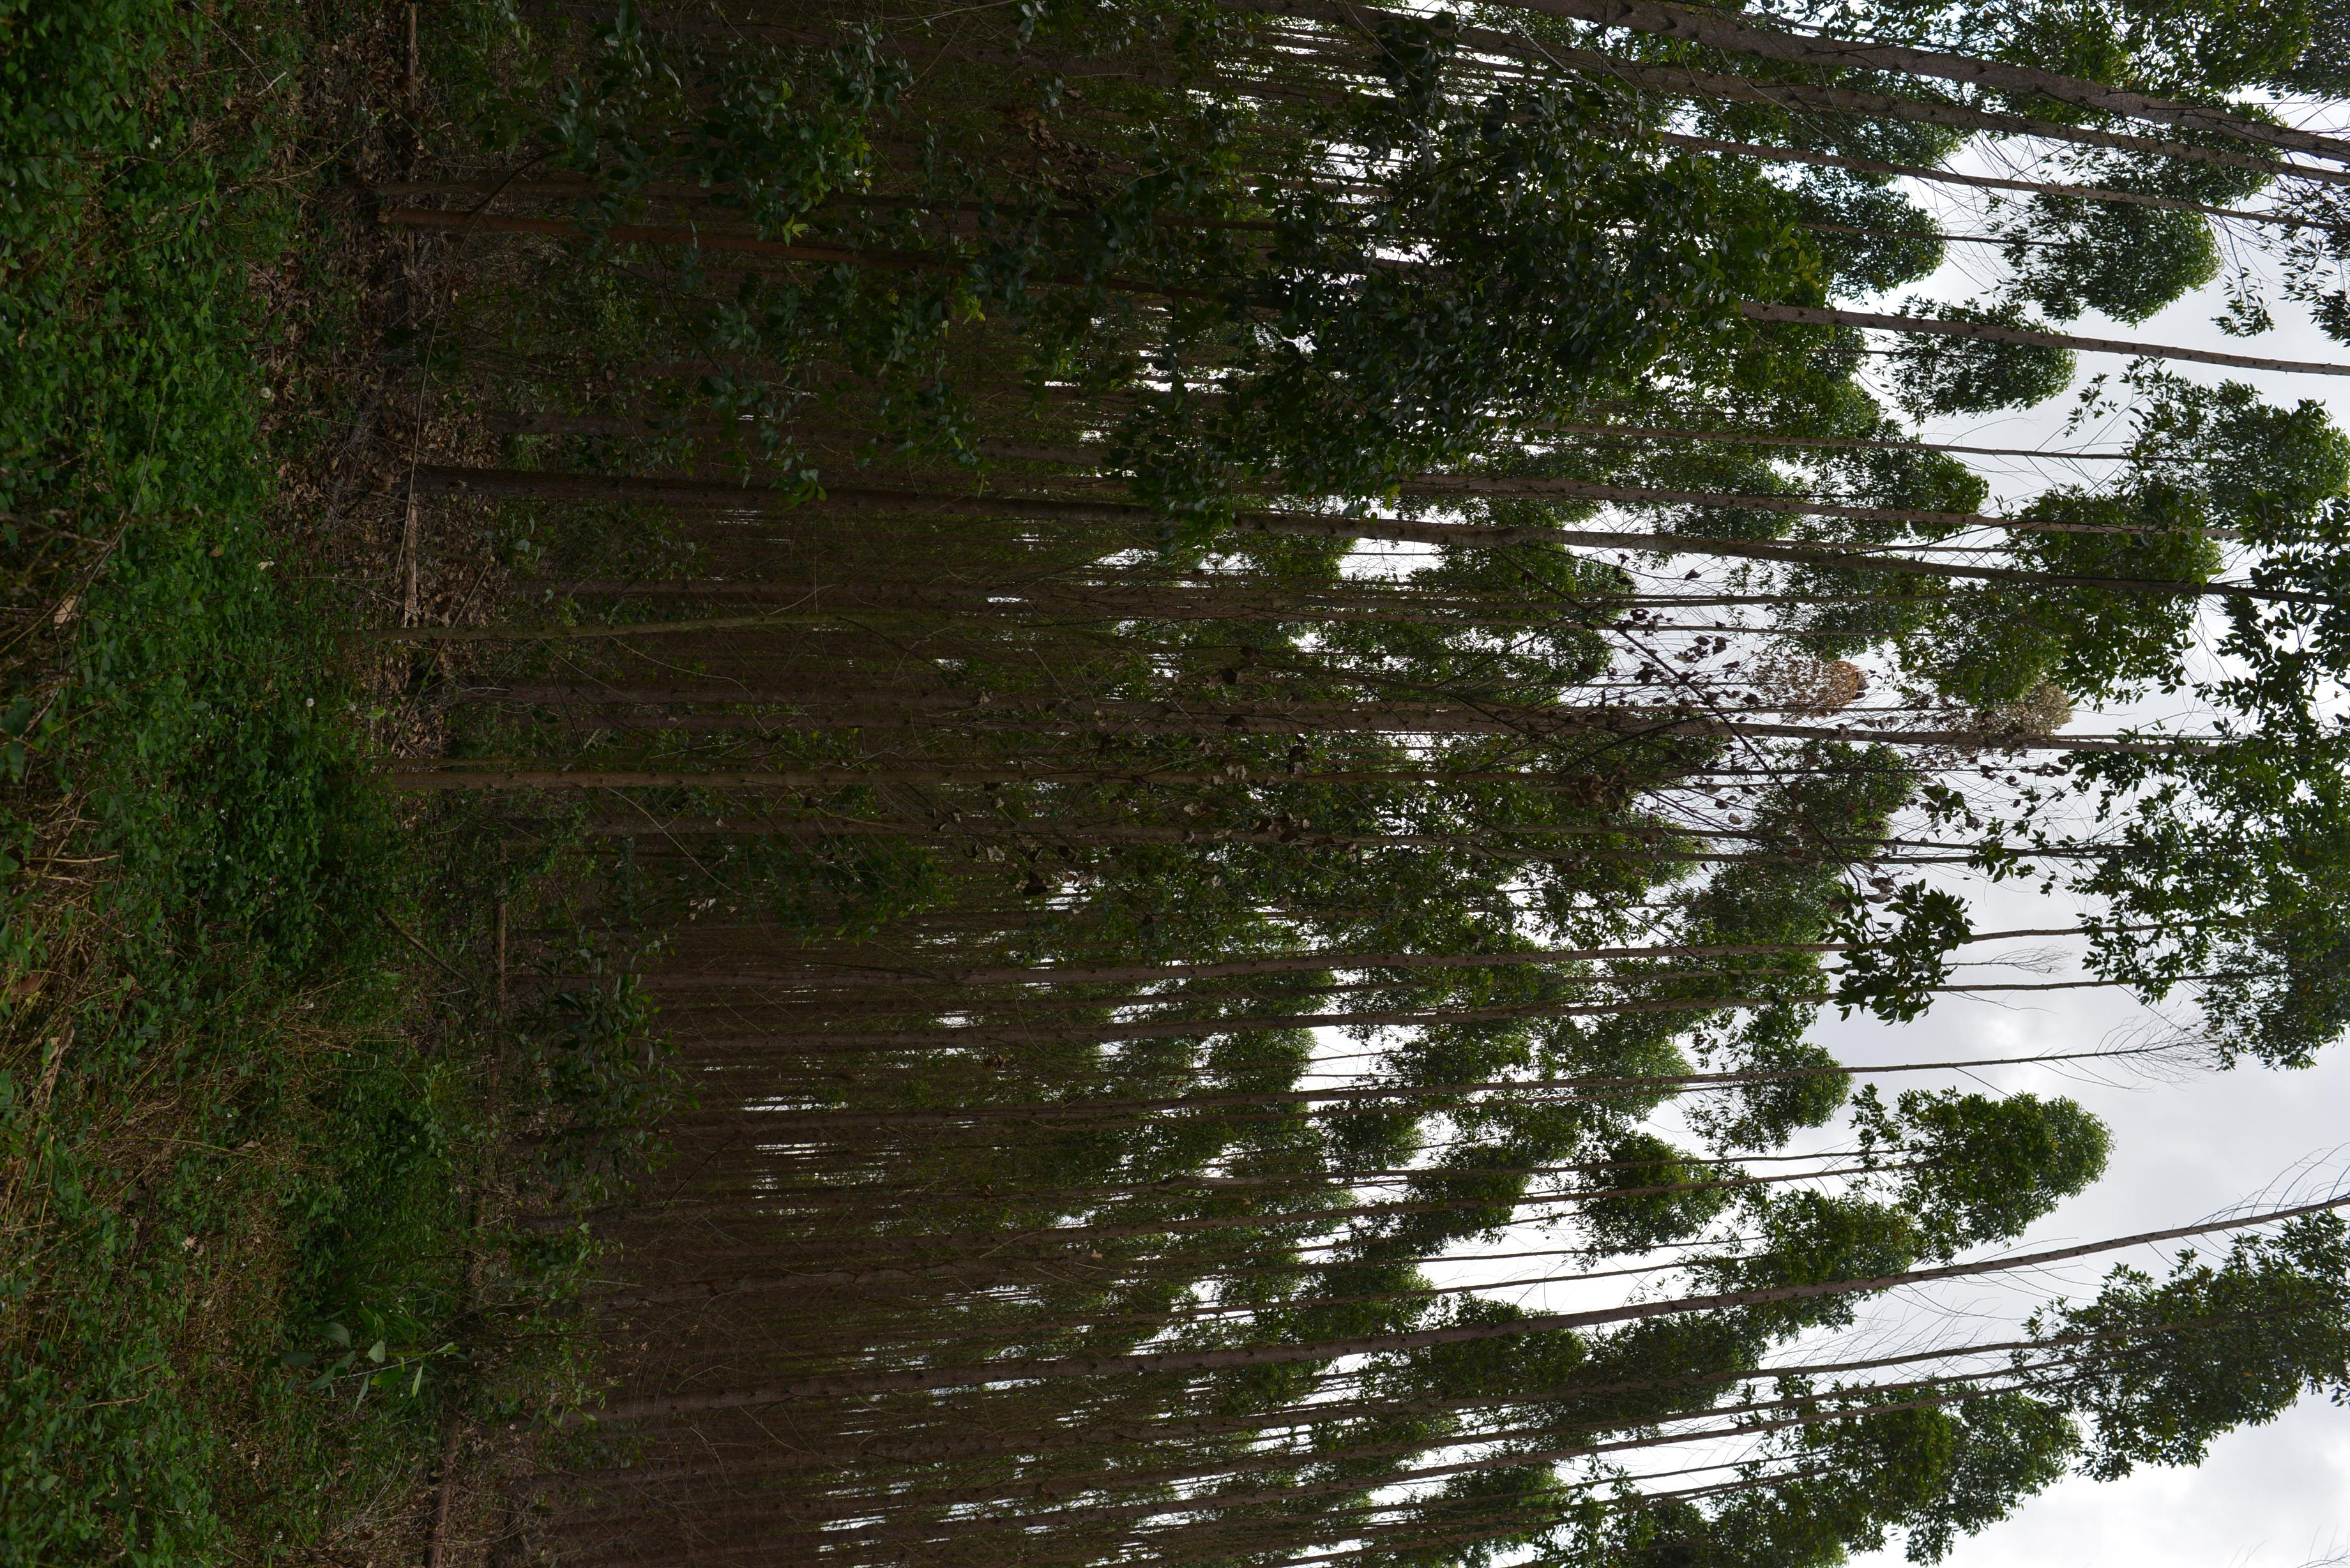Wither Tree Parts: (1958, 646, 2093, 761), (1741, 630, 1869, 740)
